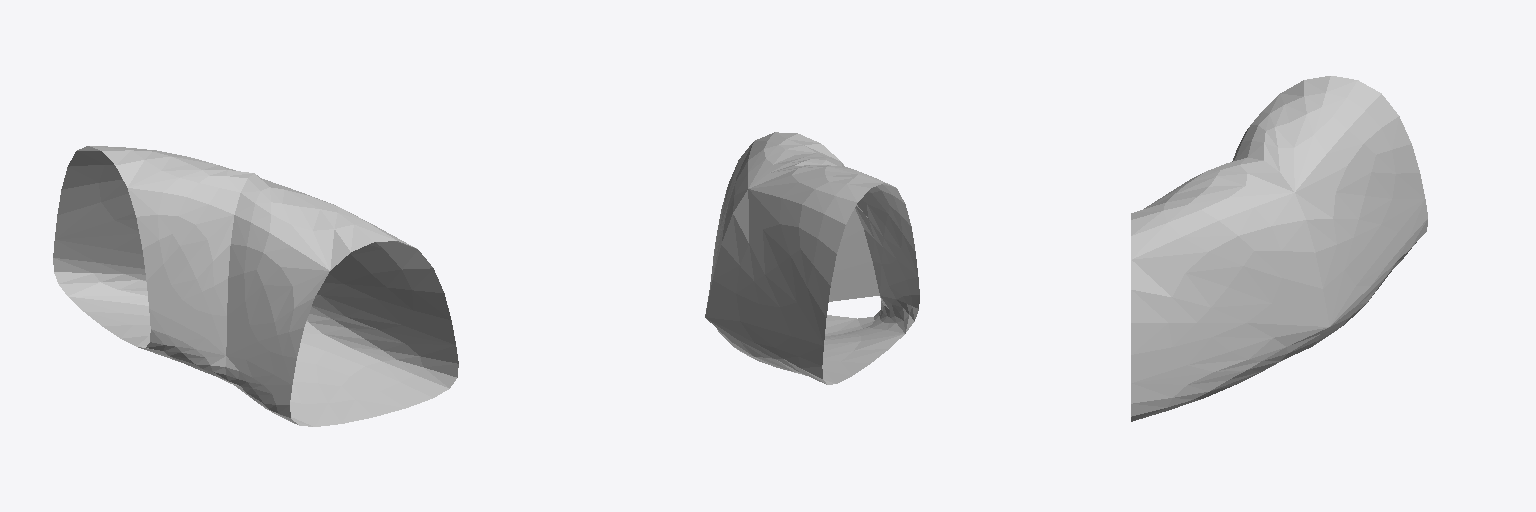
The model's file is cave_902_2.obj.
The picture shows the model from 3 angles: view 1: azimuth 30°, elevation 25°; view 2: azimuth 150°, elevation 25°; view 3: azimuth 270°, elevation 25°; orthographic projection.
Visible parts, largest first — view 1: cave_902_2_Cube.078; view 2: cave_902_2_Cube.078; view 3: cave_902_2_Cube.078.
Part boxes in pixels (x1,y1,x2,y2): cave_902_2_Cube.078: (53,146,458,426); cave_902_2_Cube.078: (705,132,919,384); cave_902_2_Cube.078: (1131,76,1427,421).
Size of the model in its own units: 8.94 by 7.81 by 8.94.